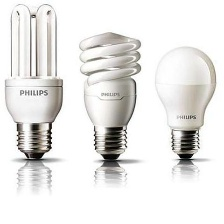light_bulb: (3, 2, 67, 165), (74, 28, 141, 161), (150, 43, 219, 165)
